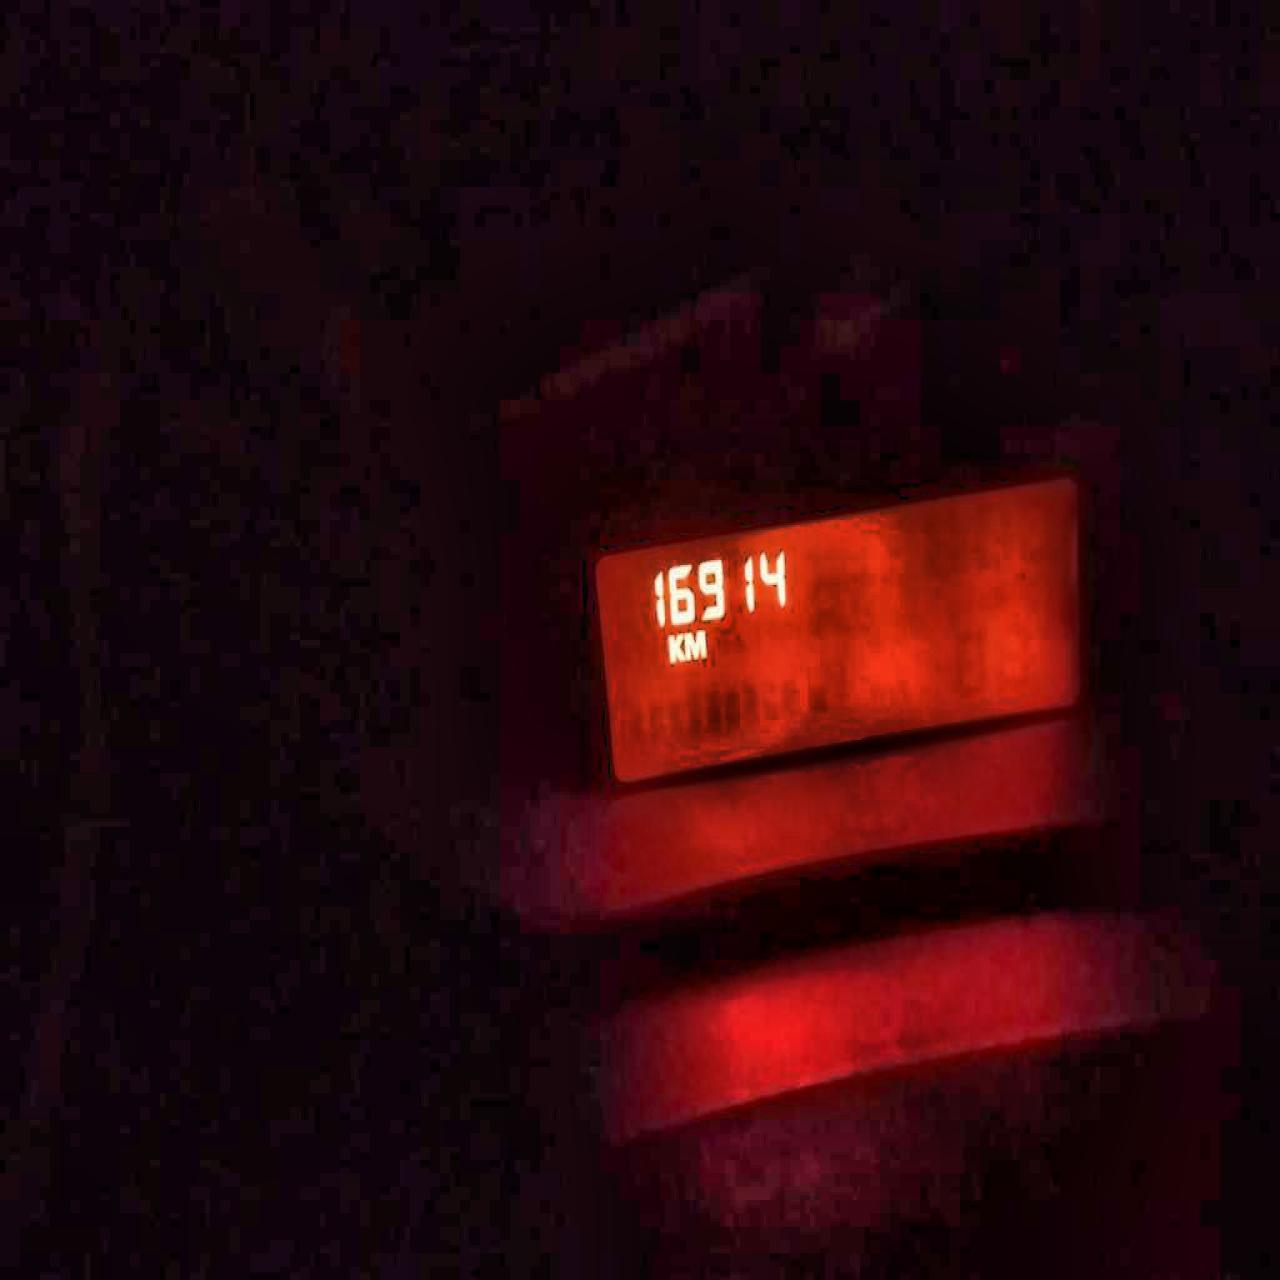1: (649, 563, 665, 632), (741, 548, 755, 620)
4: (758, 547, 788, 608)
6: (668, 558, 696, 628)
9: (698, 555, 726, 623)
X: (684, 628, 708, 660), (668, 630, 684, 663)
odometer: (584, 468, 1092, 790)
